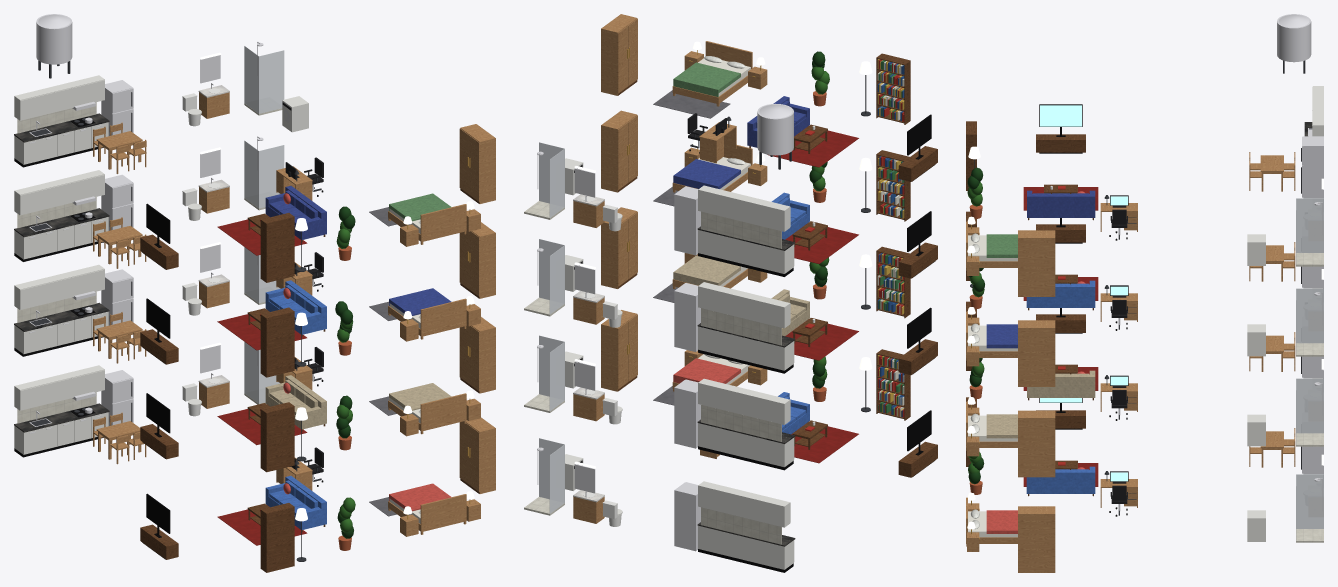
Rendered from i_chicago_walkup.gltf.
3 views of the same model, side by side, from view 1: azimuth 30°, elevation 25°; view 2: azimuth 150°, elevation 25°; view 3: azimuth 270°, elevation 25° (orthographic). The views are drawn at different scales.
Visible parts, largest first — view 1: I_chicago_walkup; view 2: I_chicago_walkup; view 3: I_chicago_walkup.
Part boxes in pixels (left/top/right/bottom): I_chicago_walkup: left=14, top=14, right=495, bottom=572; I_chicago_walkup: left=524, top=14, right=937, bottom=572; I_chicago_walkup: left=966, top=14, right=1323, bottom=572.
Bounding box in the file's own units: 11.36 × 14.8 × 11.52.
35 materials, 14 textured.
